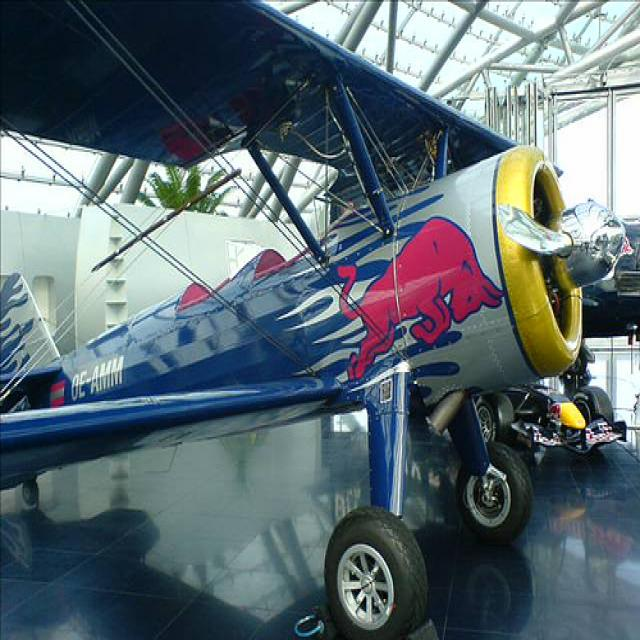aeroplane: (1, 1, 632, 639)
car: (475, 383, 628, 462)
